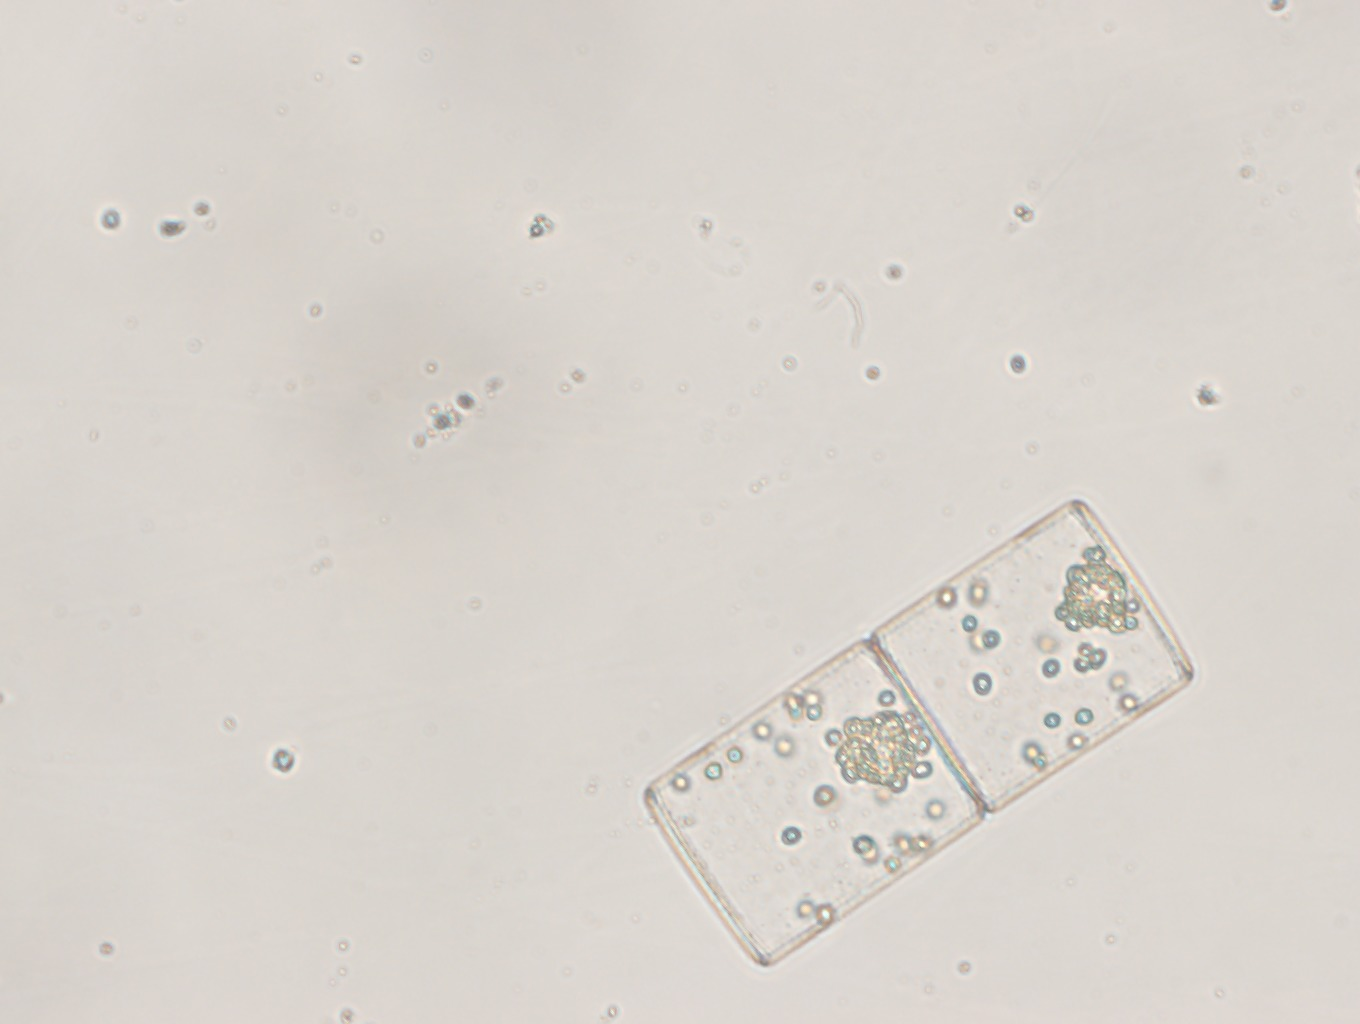guinardia flaccida: (638, 494, 1199, 970)
